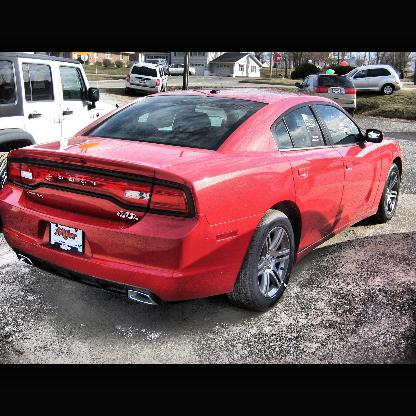Dodge Charger Sedan 2012: (2, 93, 406, 312)
